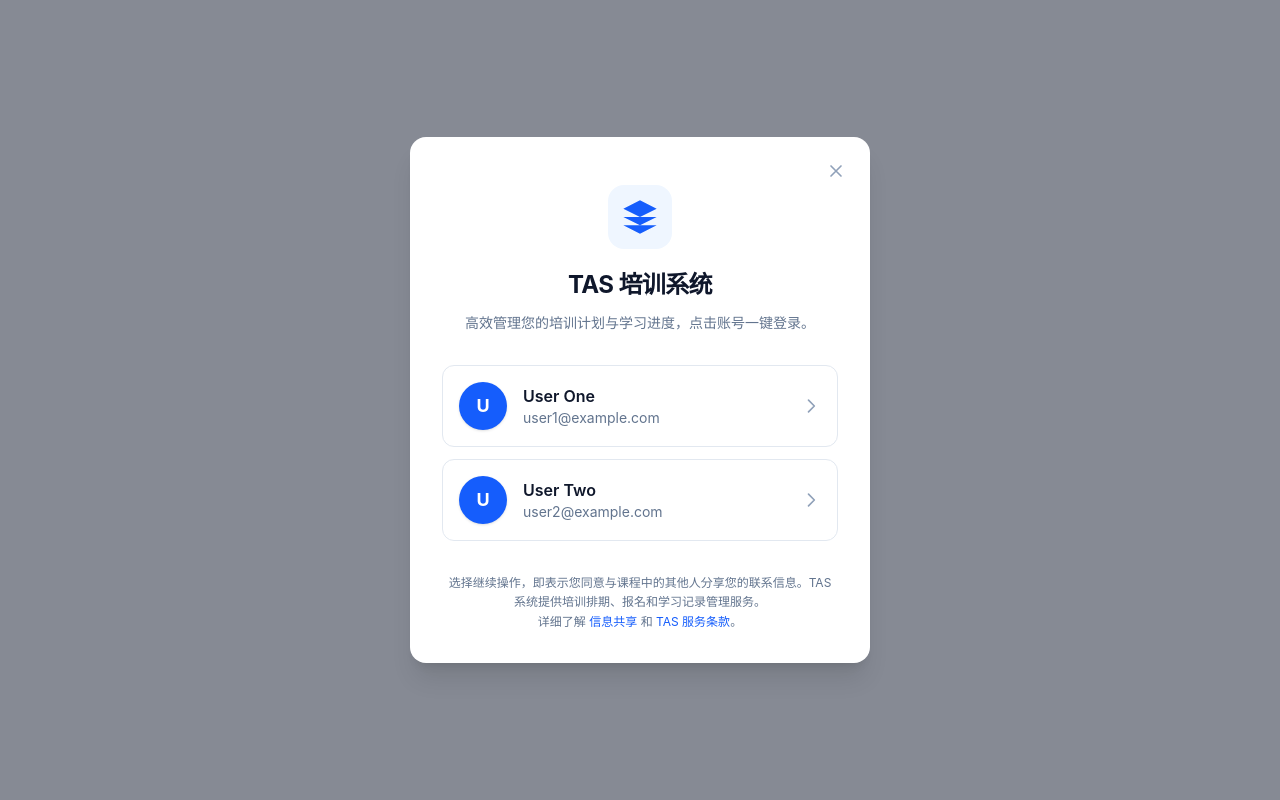
Test: AuthModal › should allow switching back to user list
The width and height of the screenshot is (1280, 800).
Click the text "User One".
click(559, 396)  # box [523,386,595,406]
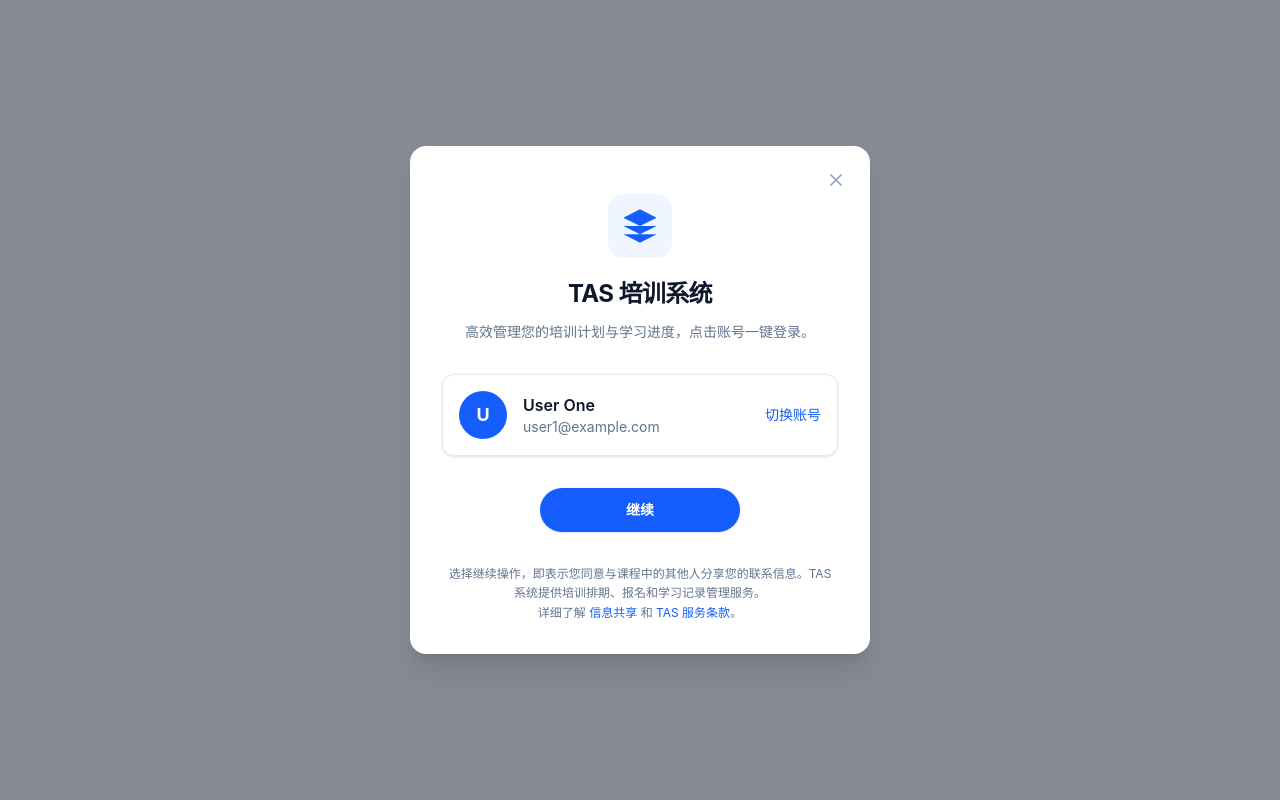
Click the button "切换账号".
click(793, 415)  # box [765,405,821,425]
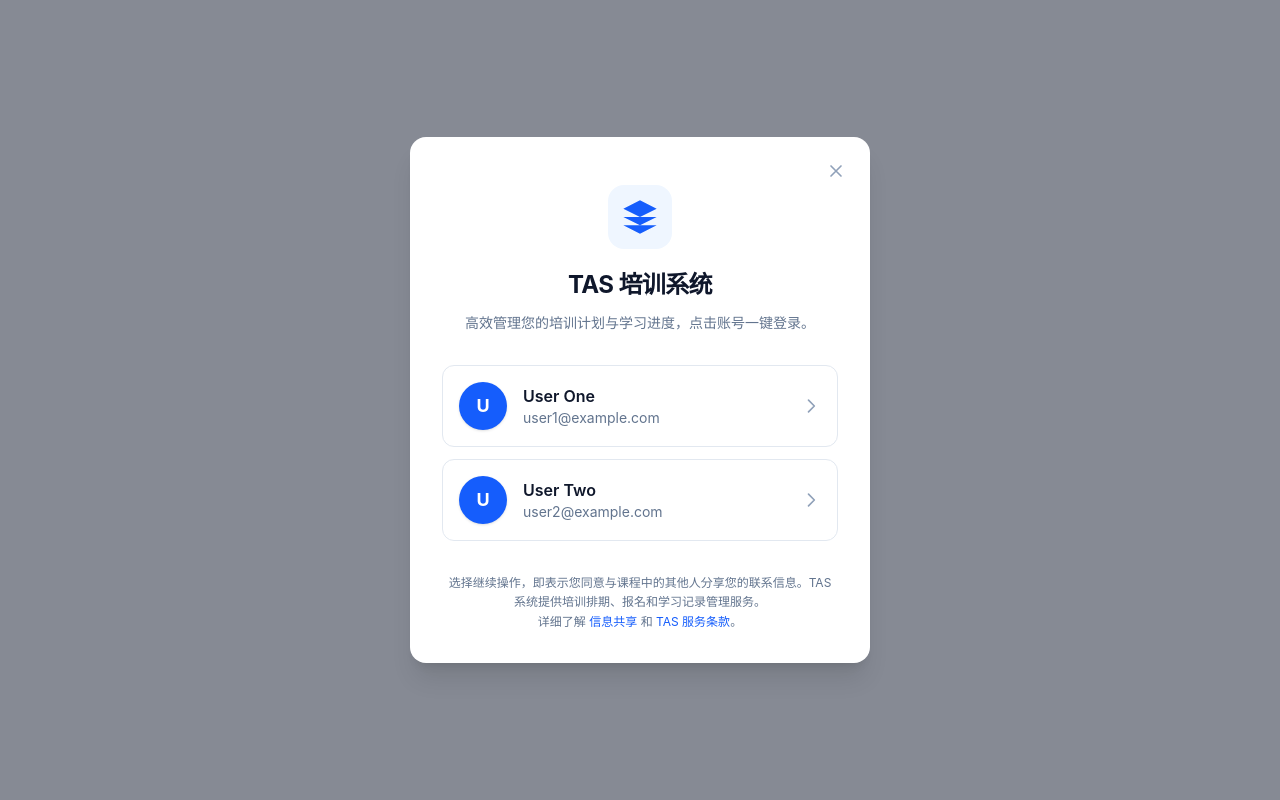
Check: the text "User Two" is shown, box [523,480,596,500]
